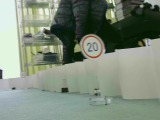speed_20: (79, 33, 107, 61)
